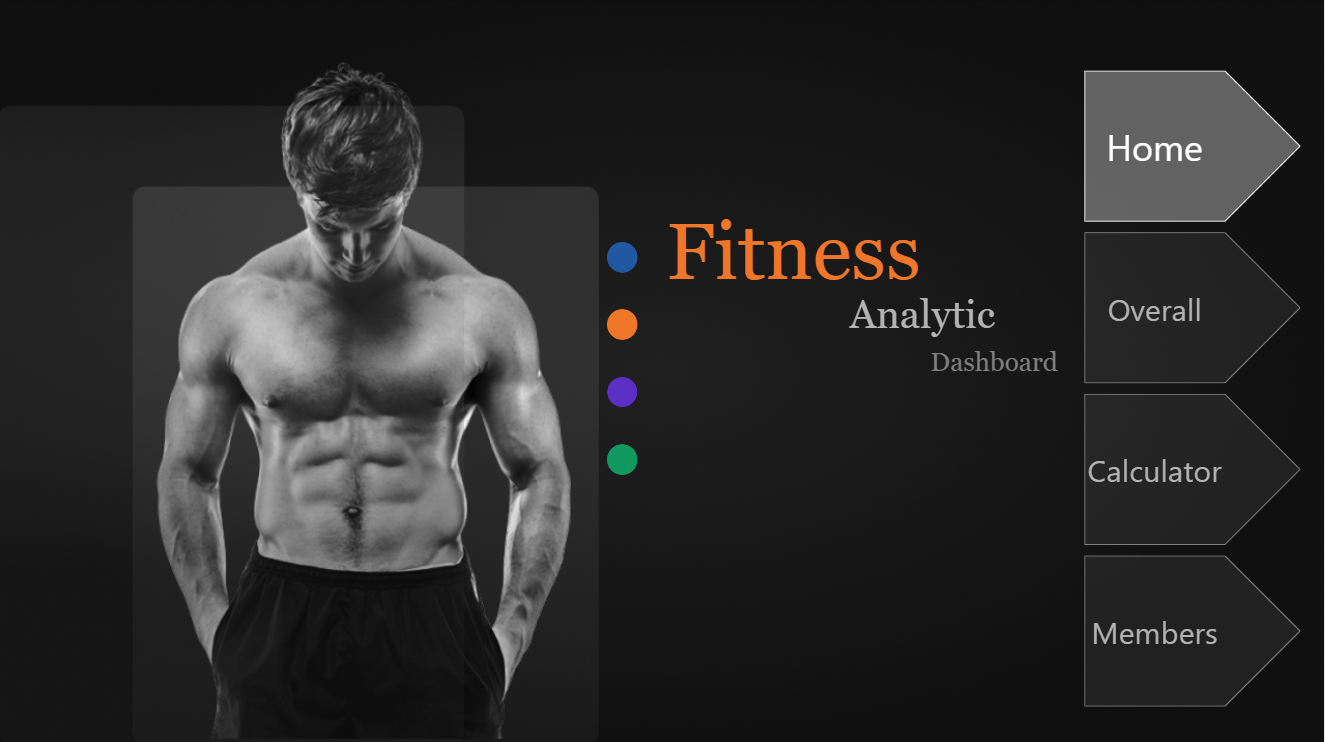

What the dashboard file says about the page in this screenshot:
{"tool":"powerbi","page":{"name":"Home","canvas":[1280,720],"ordinal":0},"visuals":[{"type":"shape","box":[639.4,200.3,257,83.2],"z":0},{"type":"shape","box":[821.6,283.5,149.6,45.8],"z":1000},{"type":"shape","box":[900,336.6,148.4,41],"z":2000},{"type":"pageNavigator","box":[1048.4,70,209.9,616.5],"z":3000},{"type":"advancedSlicerVisual","fields":{"Values":["ColorCodes.Icon"]},"box":[579.1,217.2,47.1,259.4],"z":4000}]}

Visuals, with their boxes in screenshot pixels (x1, y1, x2, y2), scaled from the page's 1280x720 canvas onto the 1325x742 screenshot:
shape: [left=662, top=206, right=928, bottom=292]
shape: [left=850, top=292, right=1005, bottom=339]
shape: [left=932, top=347, right=1085, bottom=389]
pageNavigator: [left=1085, top=72, right=1303, bottom=707]
advancedSlicerVisual - ColorCodes.Icon: [left=599, top=224, right=648, bottom=491]
